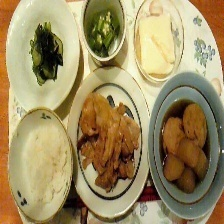dal: (17, 121, 73, 210)
